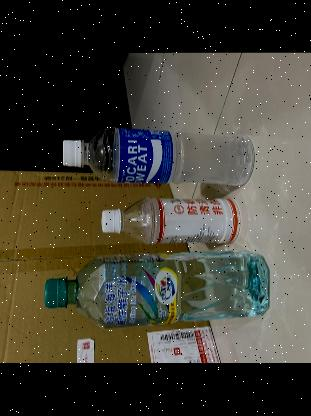Plastic Bottle: (44, 251, 269, 329), (62, 126, 254, 185), (101, 197, 240, 244)
